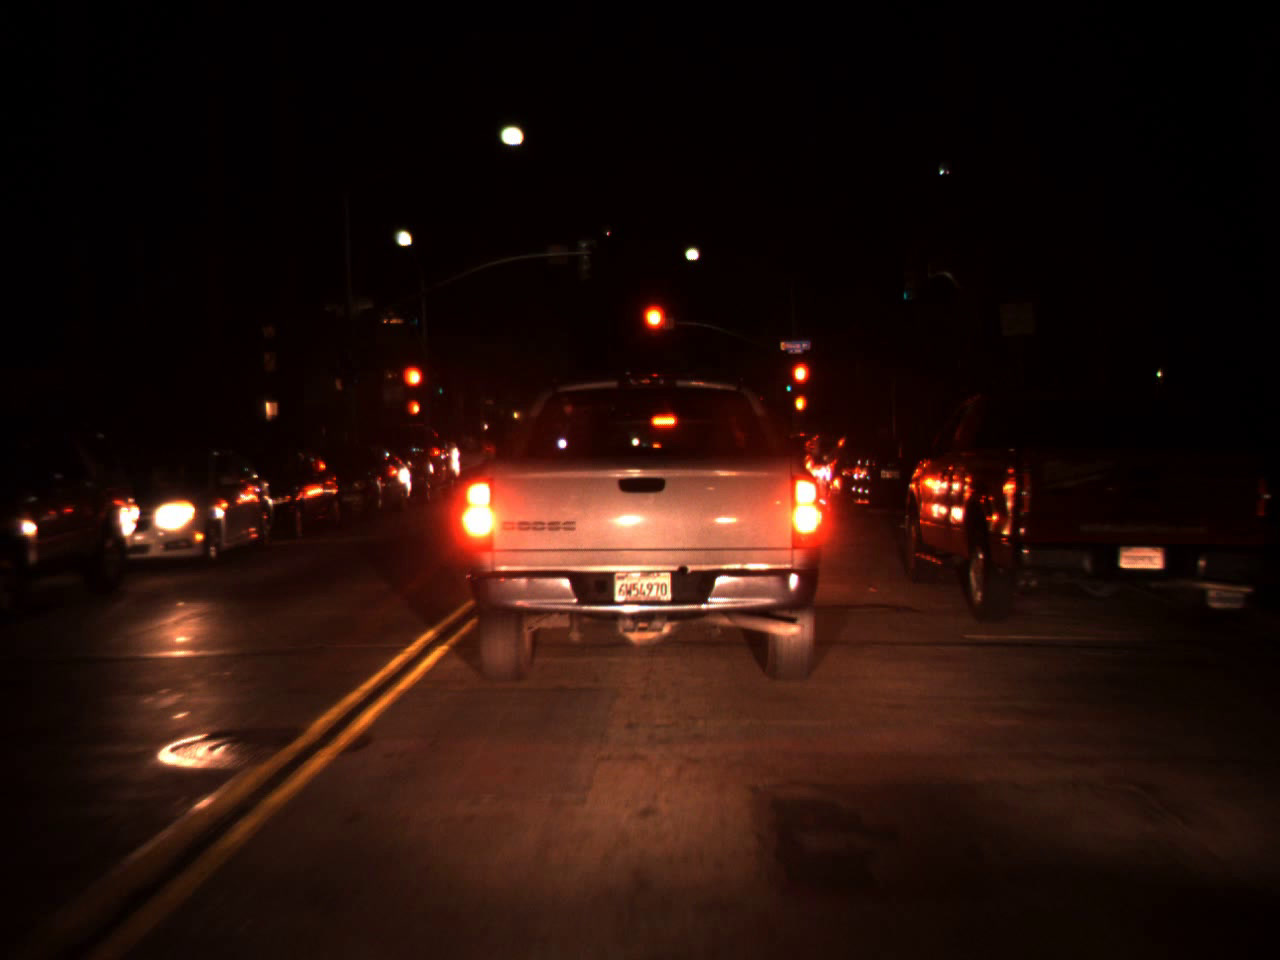stop: (638, 301, 669, 359), (400, 363, 425, 411), (789, 359, 811, 407)
